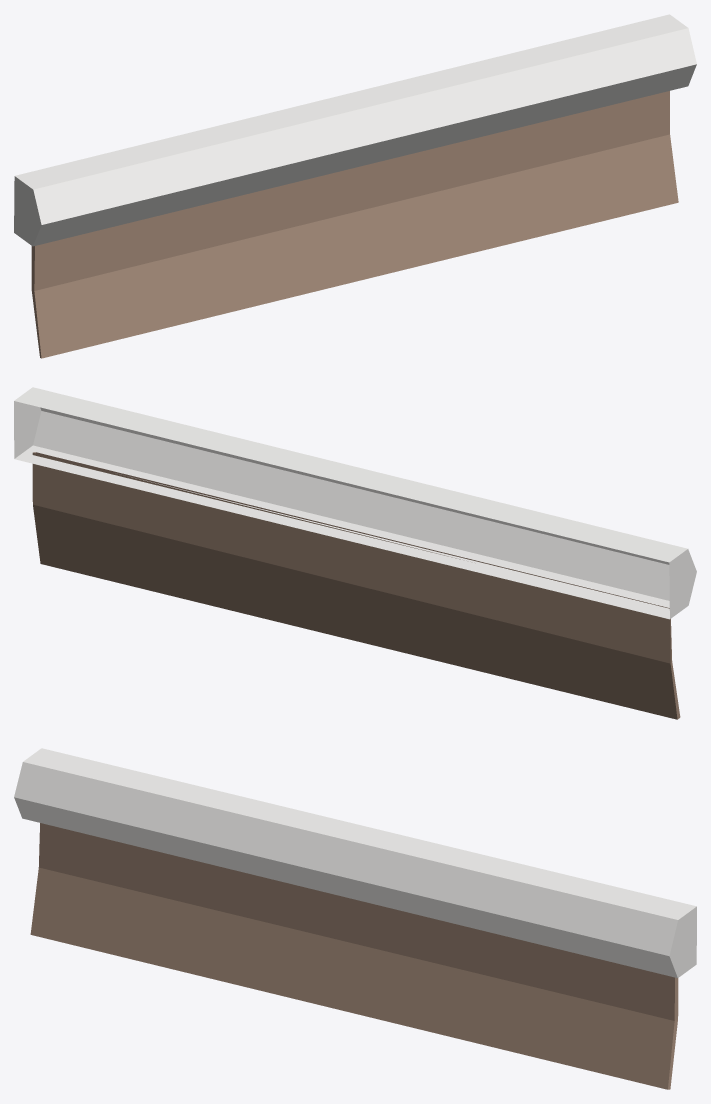
Rendered from Blinds_5.fbx.
The picture shows the model from 3 angles, top to bottom: view 1: azimuth 30°, elevation 25°; view 2: azimuth 150°, elevation 25°; view 3: azimuth 330°, elevation 25°; orthographic projection.
Visible parts, largest first — view 1: Blinds_5; view 2: Blinds_5; view 3: Blinds_5.
Boxes of the visible parts, x1,y1,x2,y2 form: Blinds_5: (14, 14, 696, 358); Blinds_5: (14, 387, 696, 719); Blinds_5: (14, 748, 696, 1089).
Bounding box in the file's own units: 194 × 14 × 48.98.
